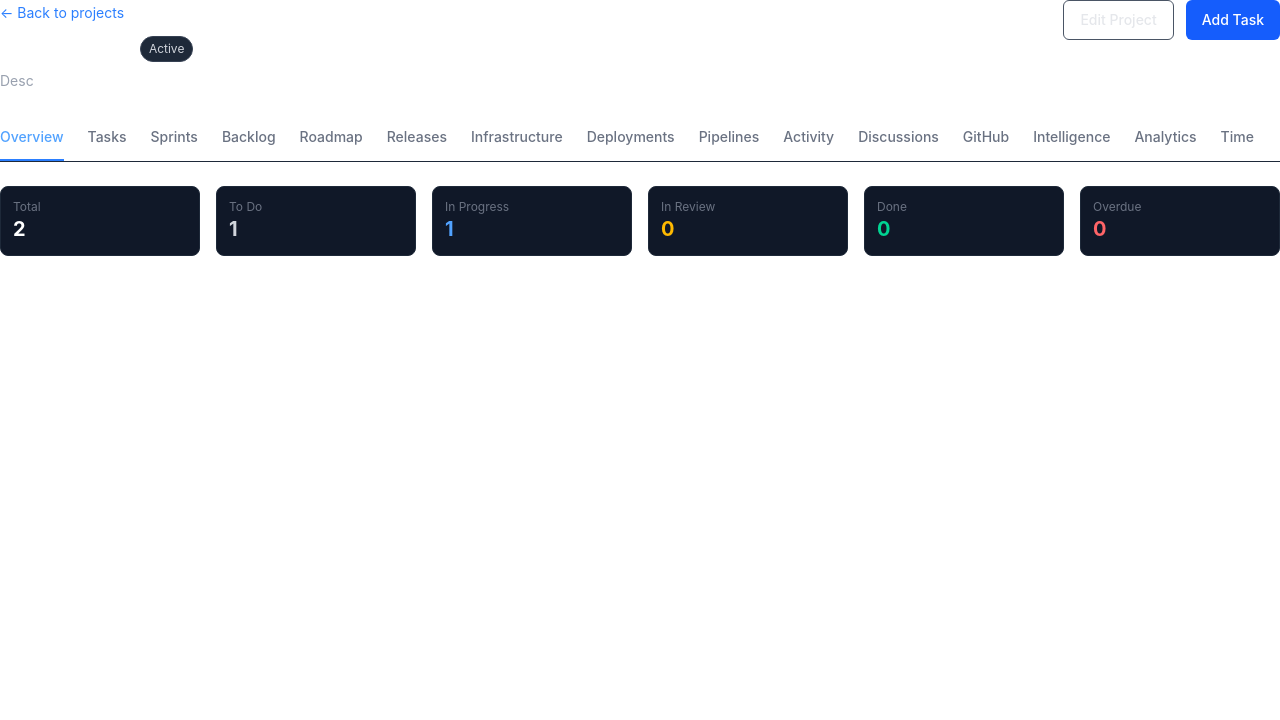
Test: ProjectDetails & Tasks › renders Kanban board with tasks
Expected: the heading "Test Proj Active" is shown, [0,31,193,67]
The kanban lives under the Tasks tab (Overview is the default tab).
What coordinates should you click on to do the following:
click the button "Tasks"
I would click on:
 (107, 138)
Its box is [88,115,126,161].
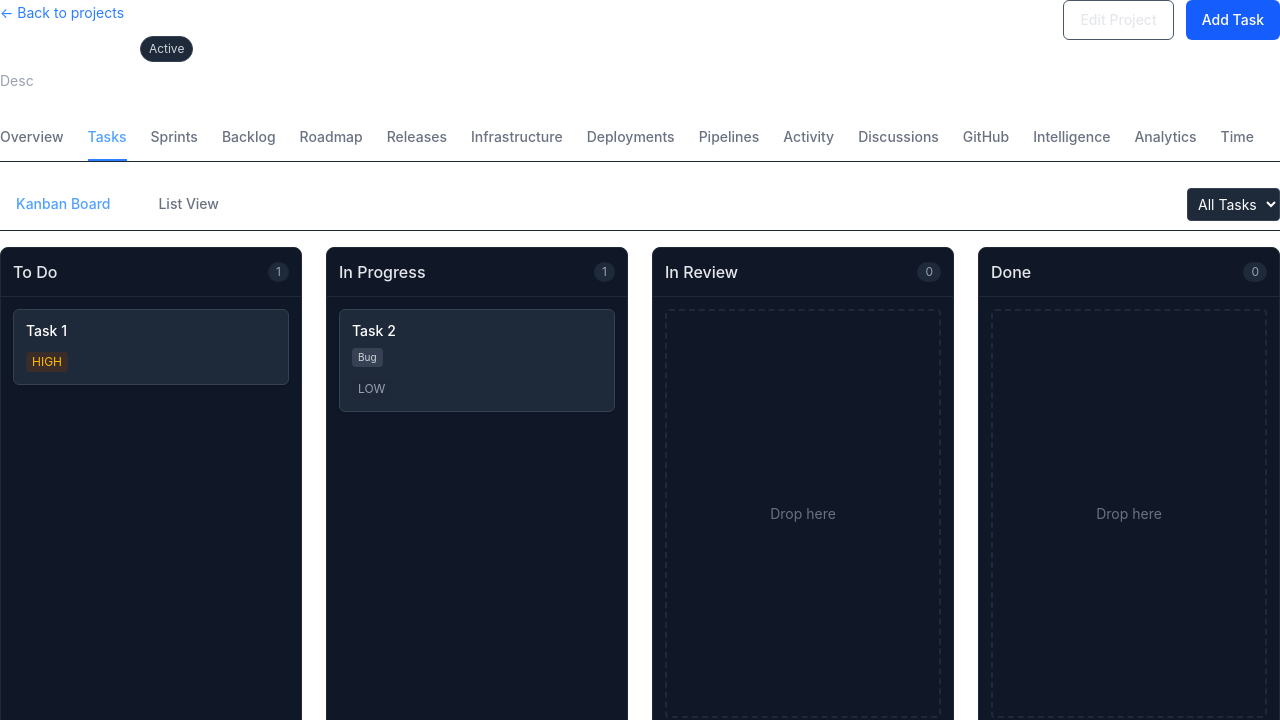
Result: the heading "Task 1" is shown at [26,322,67,340]
Result: the heading "Task 2" is shown at [352,322,396,340]
Result: the text "Bug" is shown at [352,348,383,366]
